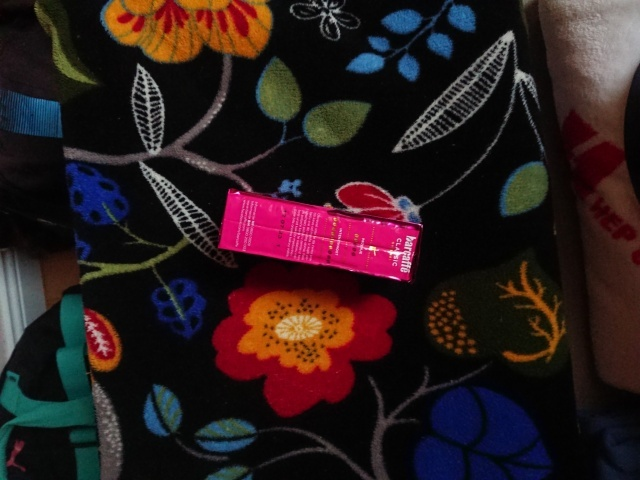Barcaffe Classic Original 225g: (213, 184, 425, 286)
